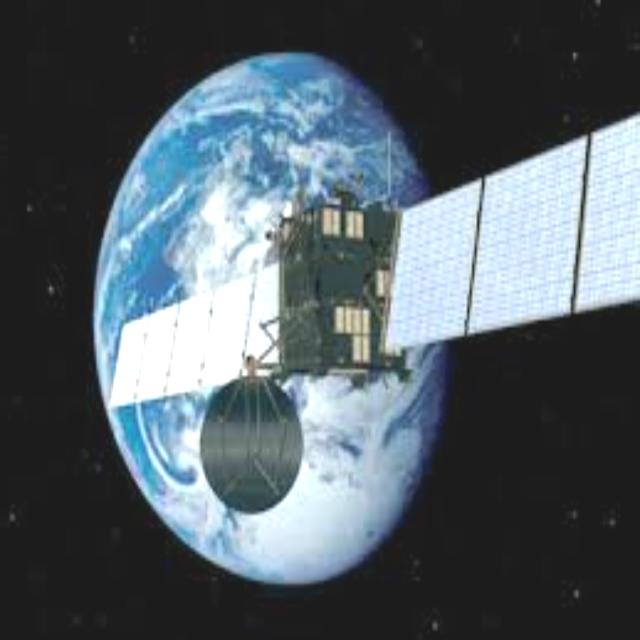satellite: (104, 95, 640, 529)
